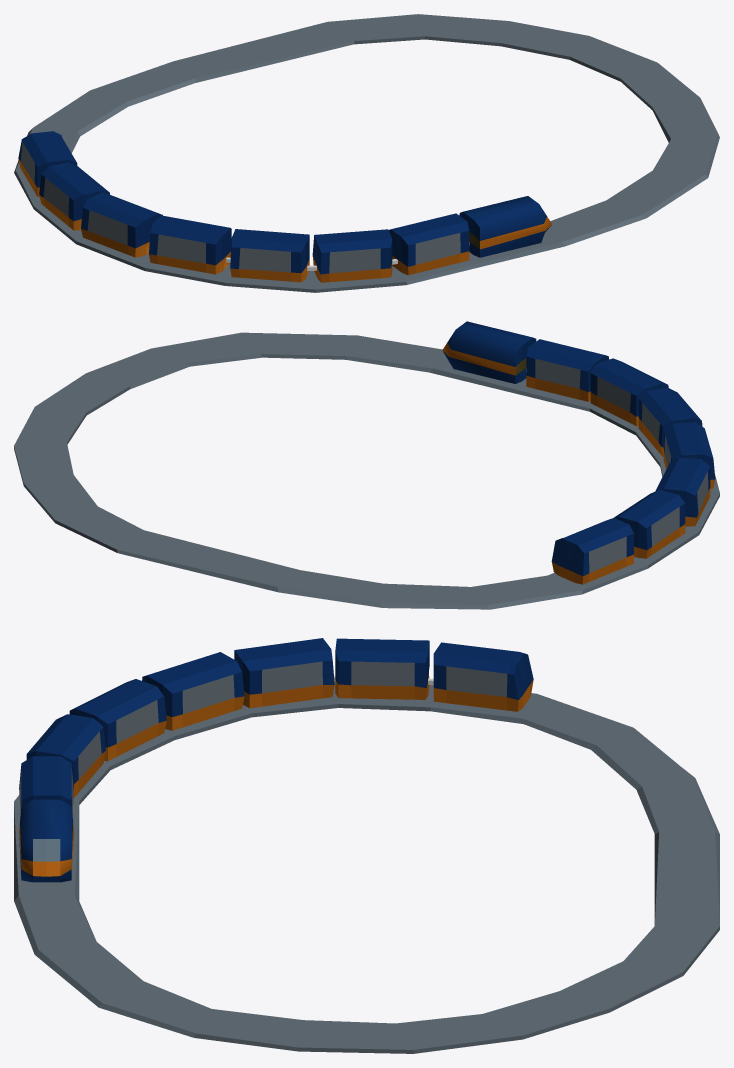
The model's file is ToyTrain.fbx.
3 renders of one model, top to bottom at view 1: azimuth 30°, elevation 25°; view 2: azimuth 150°, elevation 25°; view 3: azimuth 270°, elevation 25°, orthographic. The views are drawn at different scales.
Visible parts, largest first — view 1: ToyTrain; view 2: ToyTrain; view 3: ToyTrain.
Part boxes in pixels (x1=…): ToyTrain: x1=14, y1=14, x2=719, y2=292; ToyTrain: x1=14, y1=321, x2=719, y2=609; ToyTrain: x1=14, y1=638, x2=719, y2=1053.
Size of the model in its own units: 126 by 8.02 by 101.
